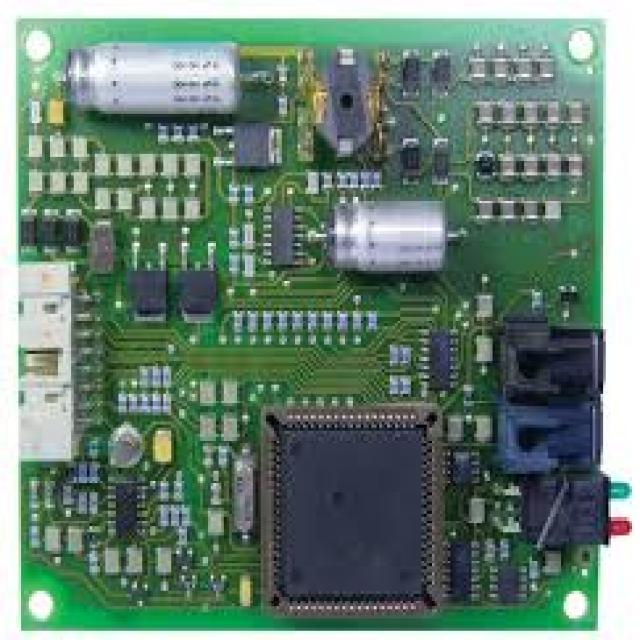pcb: (13, 12, 627, 631), (492, 311, 606, 474), (16, 258, 74, 462), (492, 394, 600, 474)
